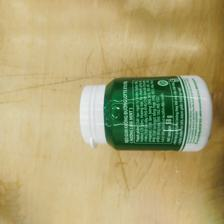Xylitol_green: (78, 73, 218, 154)
